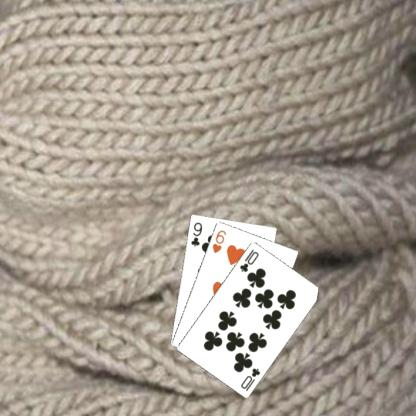10C: (237, 246, 260, 273), (238, 365, 261, 392)
6H: (210, 228, 227, 255)
9C: (188, 219, 203, 248)
